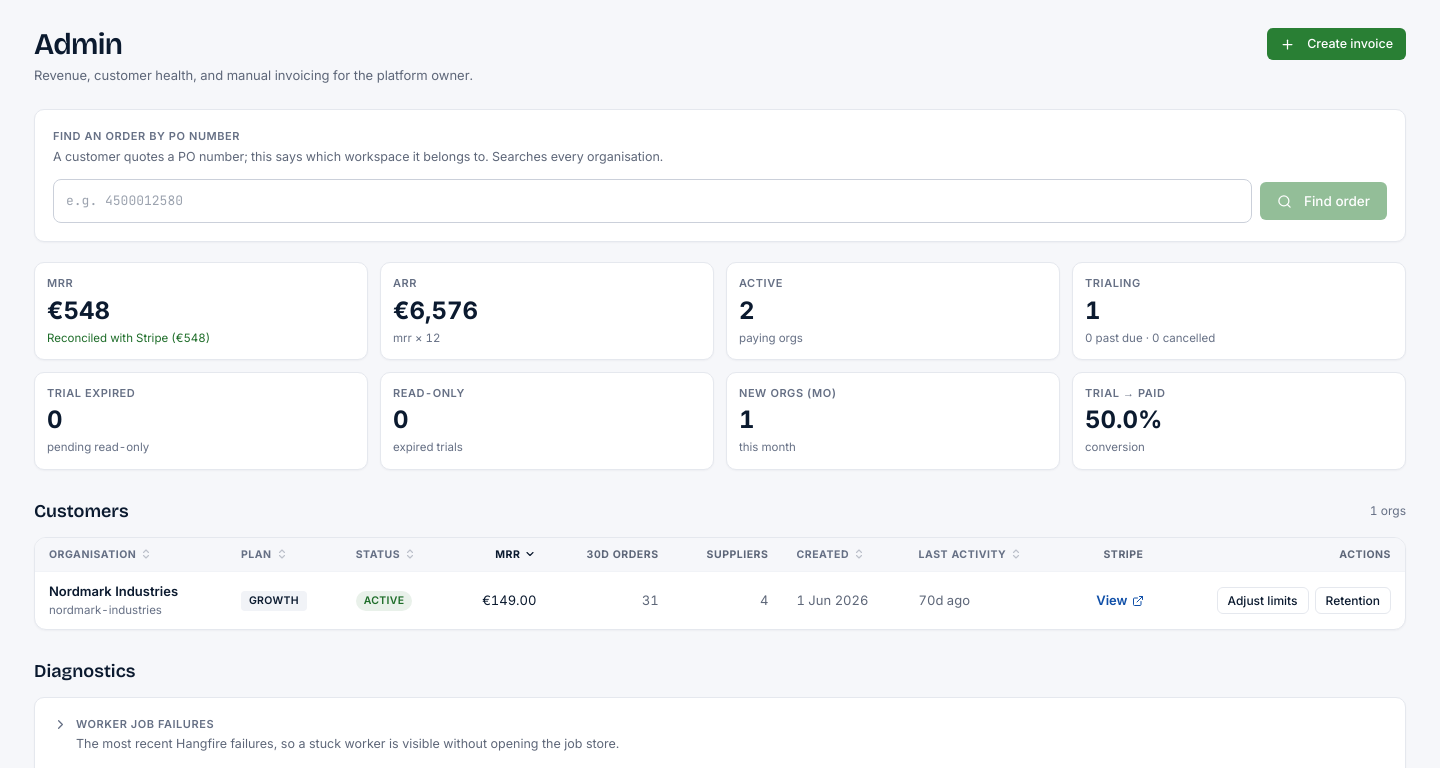
Test: admin — a failed lookup is never rendered as 'no results' › retry re-issues the same lookup
The width and height of the screenshot is (1440, 768).
Check: the heading "Customers" is shown, box [34,498,129,525]
In the search field named "po number": (652, 201) [53,179,1252,223], type "4500012580"
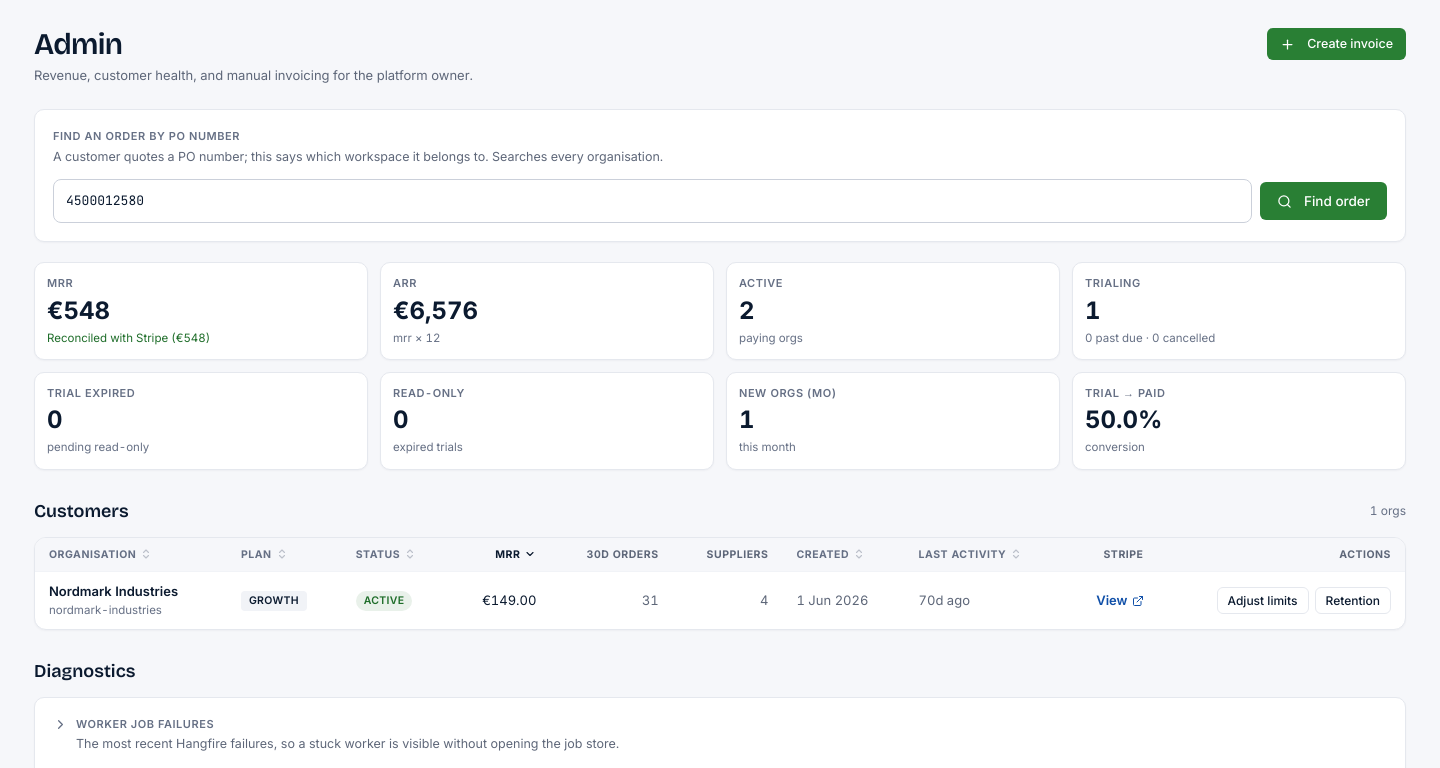
Click the button "Find order": (1324, 201) [1260,182,1387,220]
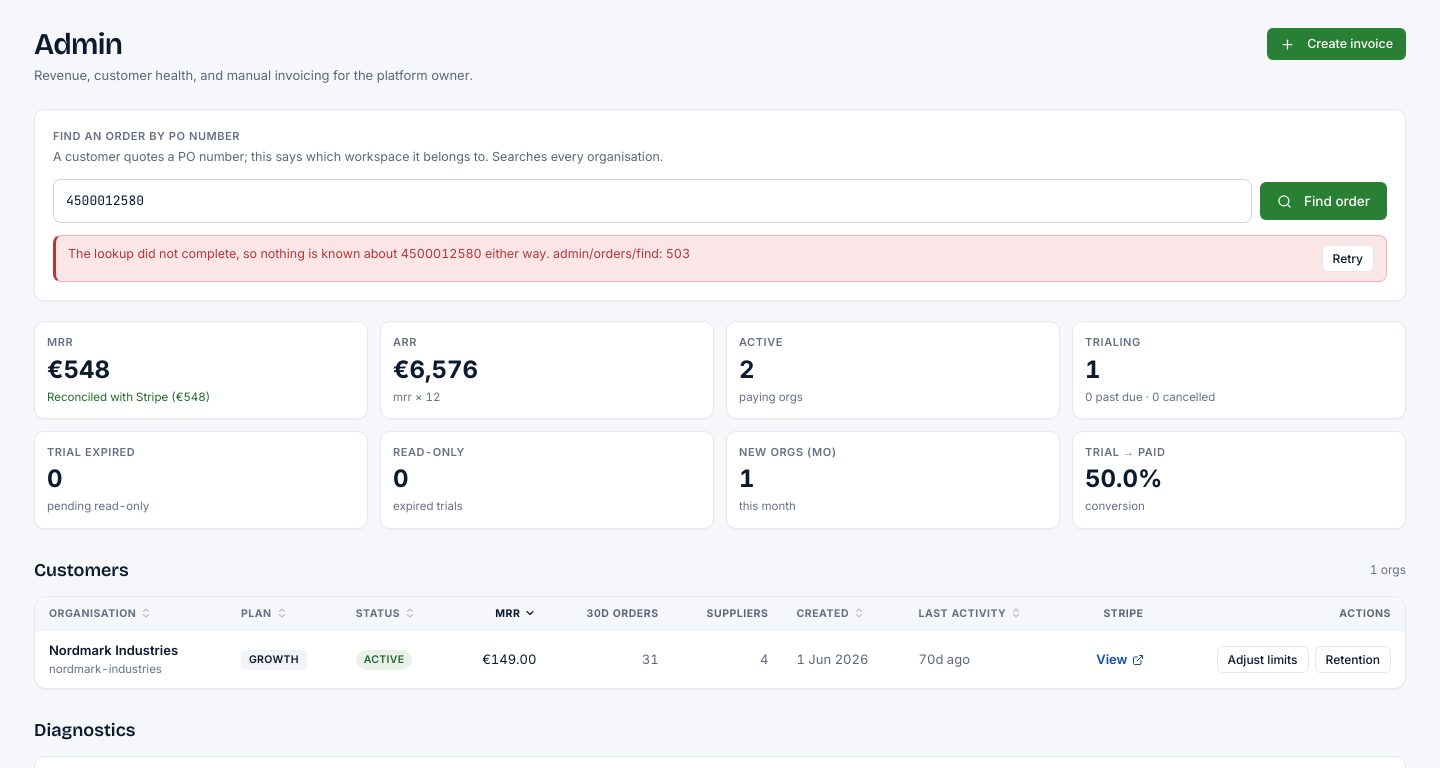
Check: the message is shown, box [53,235,1387,282]
Click the button "Retry": (1348, 259) [1322,245,1374,272]
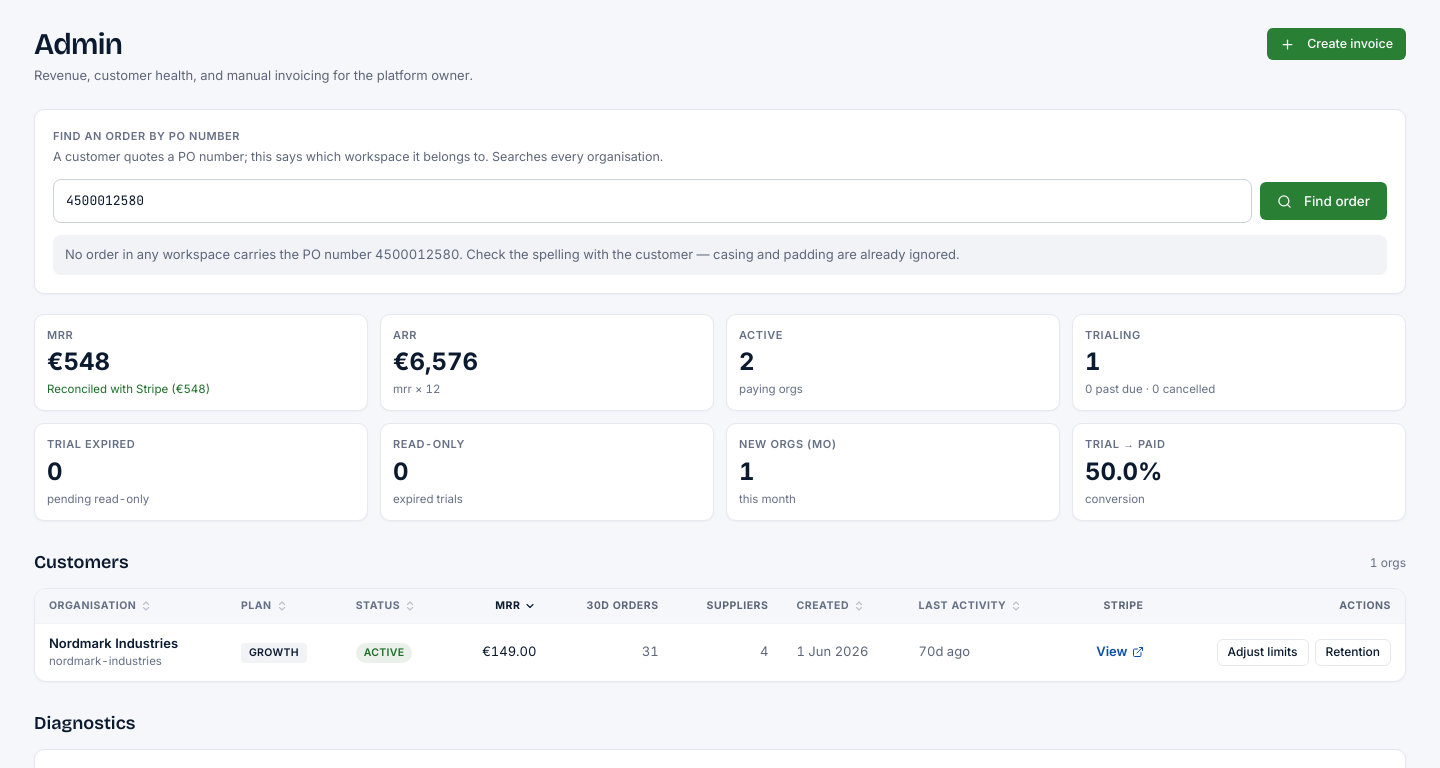
Check: the text "No order" is shown, box [65,246,375,262]
